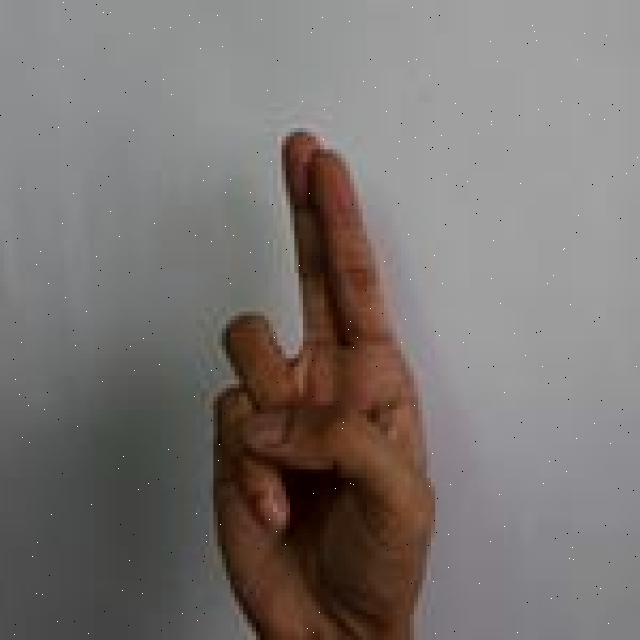U: (202, 122, 445, 640)
